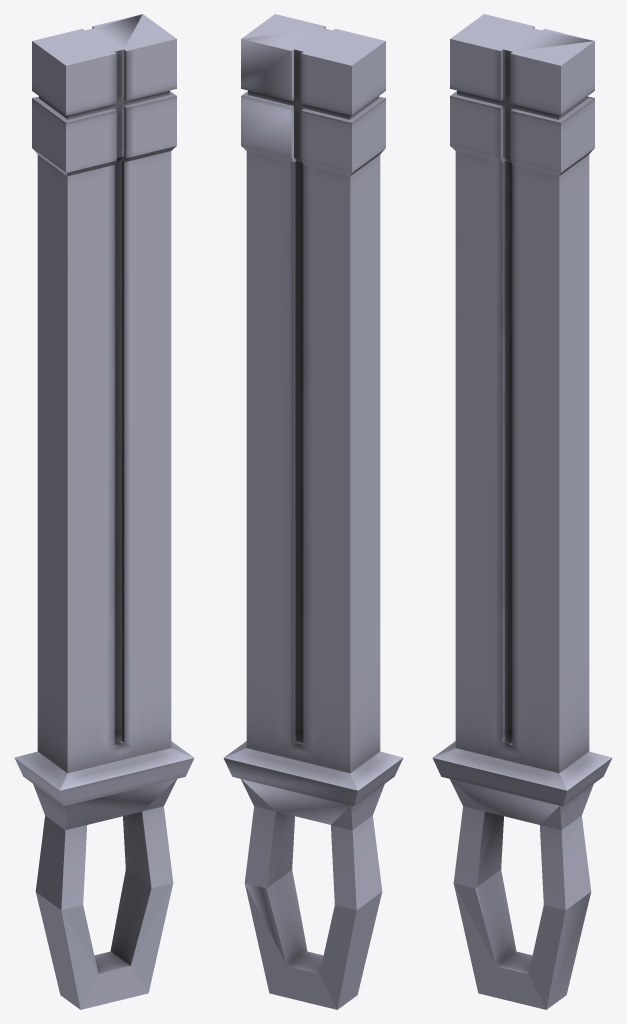
Rendered from SeeleSchneider.obj.
3 views of the same model, side by side, from view 1: azimuth 30°, elevation 25°; view 2: azimuth 150°, elevation 25°; view 3: azimuth 330°, elevation 25° (orthographic).
Visible parts, largest first — view 1: pCube1; view 2: pCube1; view 3: pCube1.
Part boxes in pixels (x1,y1,x2,y2): pCube1: (14, 14, 194, 1009); pCube1: (223, 14, 403, 1009); pCube1: (432, 14, 612, 1009).
Bounding box in the file's own units: 11.34 × 76.67 × 6.6.
